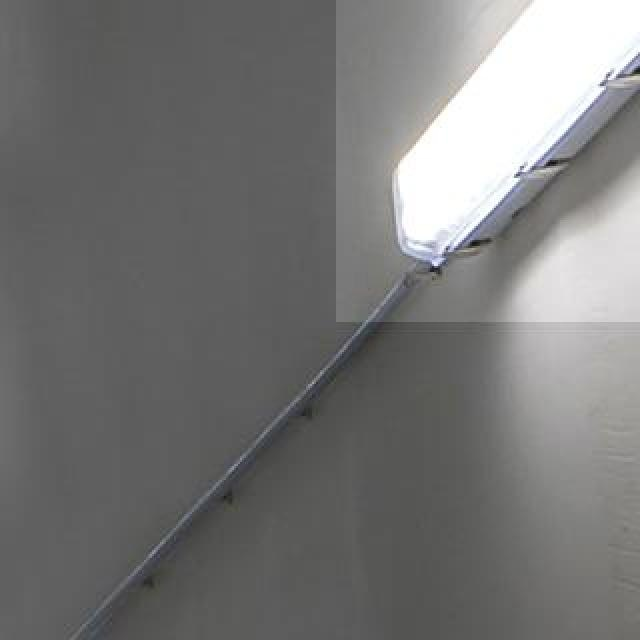fluorescent tube: (356, 0, 640, 282)
